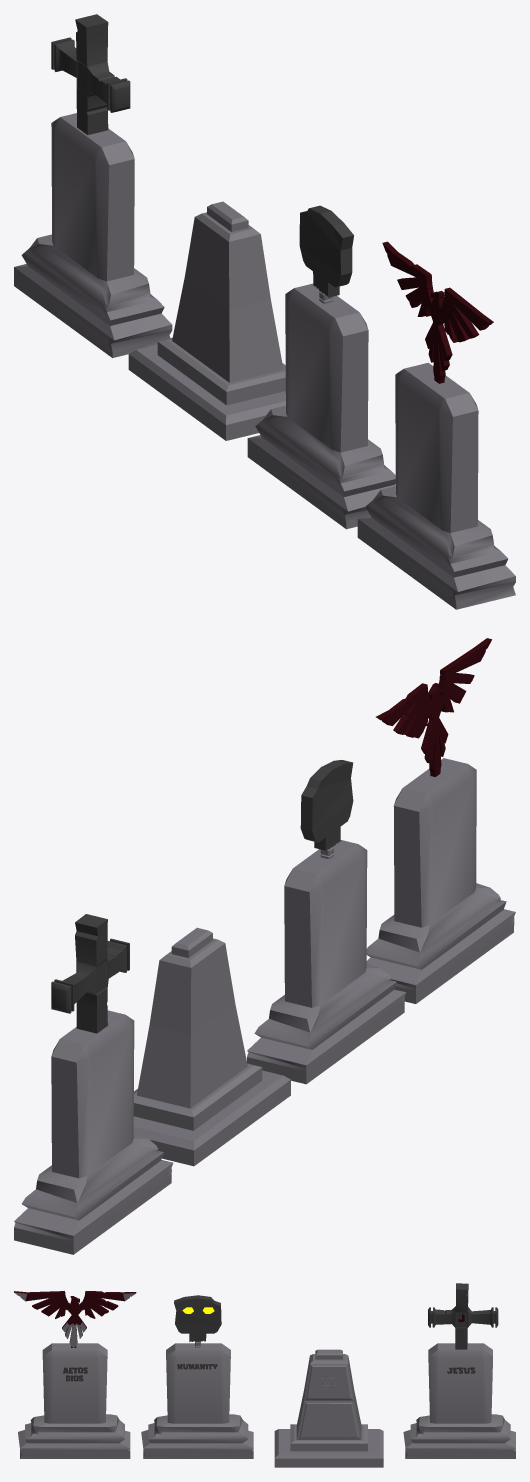
File: stonesgrave.fbx
3 views of the same model, one above another, from view 1: azimuth 30°, elevation 25°; view 2: azimuth 150°, elevation 25°; view 3: azimuth 270°, elevation 25° (orthographic). The views are drawn at different scales.
Parts seen in each view (by area): view 1: jesus, eagle, humantıty, ısrael; view 2: jesus, eagle, humantıty, ısrael; view 3: eagle, humantıty, jesus, ısrael.
Part boxes in pixels (x1,y1,x2,y2): jesus: (14,14,172,357); eagle: (357,241,515,609); humantıty: (247,205,395,529); ısrael: (128,201,285,440); jesus: (14,914,173,1254); eagle: (366,638,515,1003); humantıty: (247,760,406,1084); ısrael: (133,927,290,1166); eagle: (14,1291,136,1458); humantıty: (141,1295,253,1458); jesus: (403,1283,515,1458); ısrael: (274,1349,383,1467).
Bounding box in the file's own units: 31.01 × 86.2 × 238.
